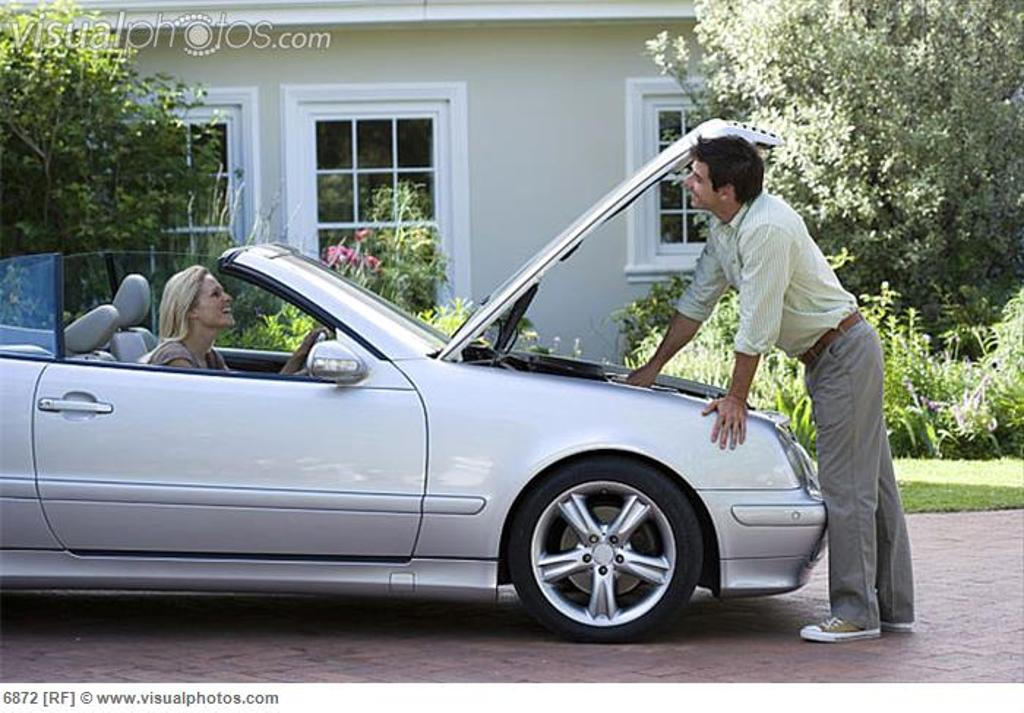face: (198, 274, 234, 326), (683, 159, 719, 207)
